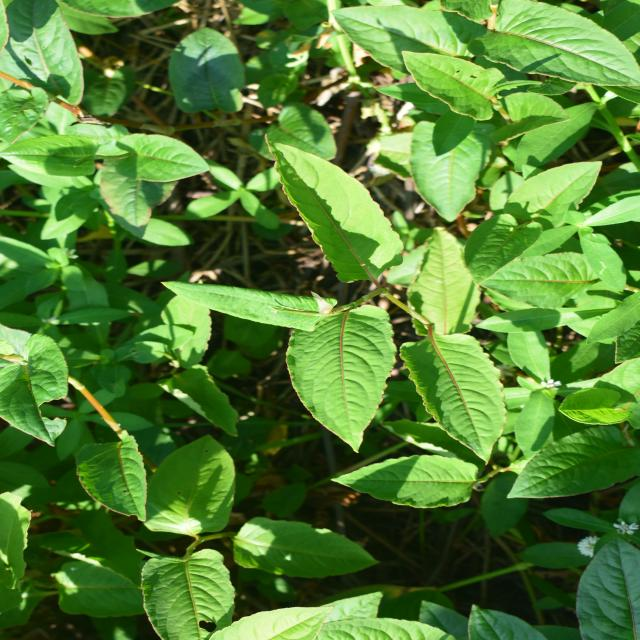Chinese_knotweed: (196, 207, 469, 500), (5, 70, 189, 327)
